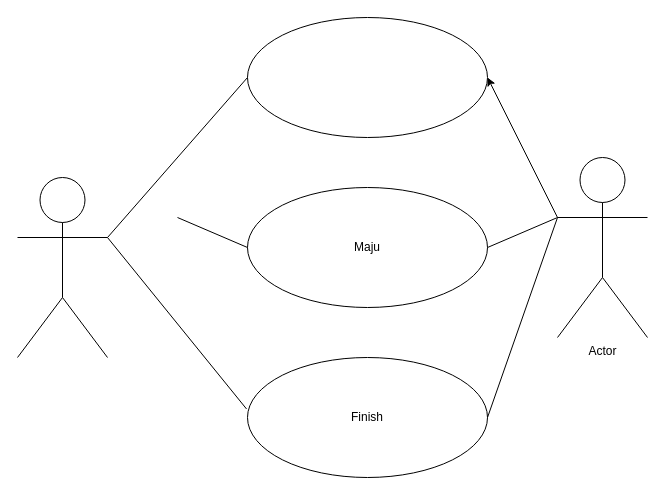
This 665x495 diagram has some shape labels left out. Each missing label, with the centre of its shape:
"Loncat" goes at point (367, 77).
"Pemain" goes at point (62, 267).
